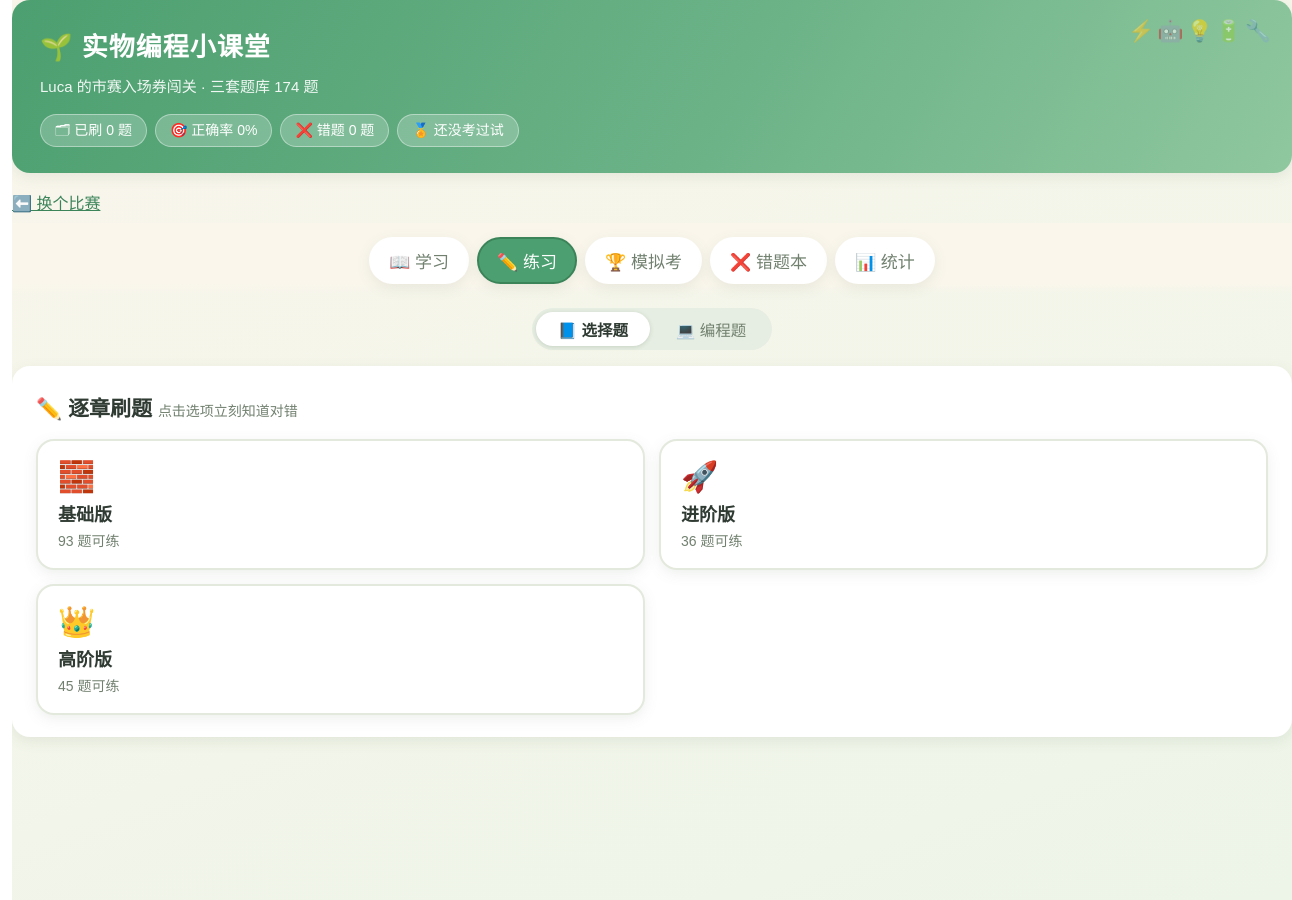
Test: AI 编程题子模块（挂在各 tab 下） › 练习页：10 分钟内完成不进错题本
The image size is (1292, 900).
Click the tab "💻 编程题" at (711, 329), box [654,312,768,346]
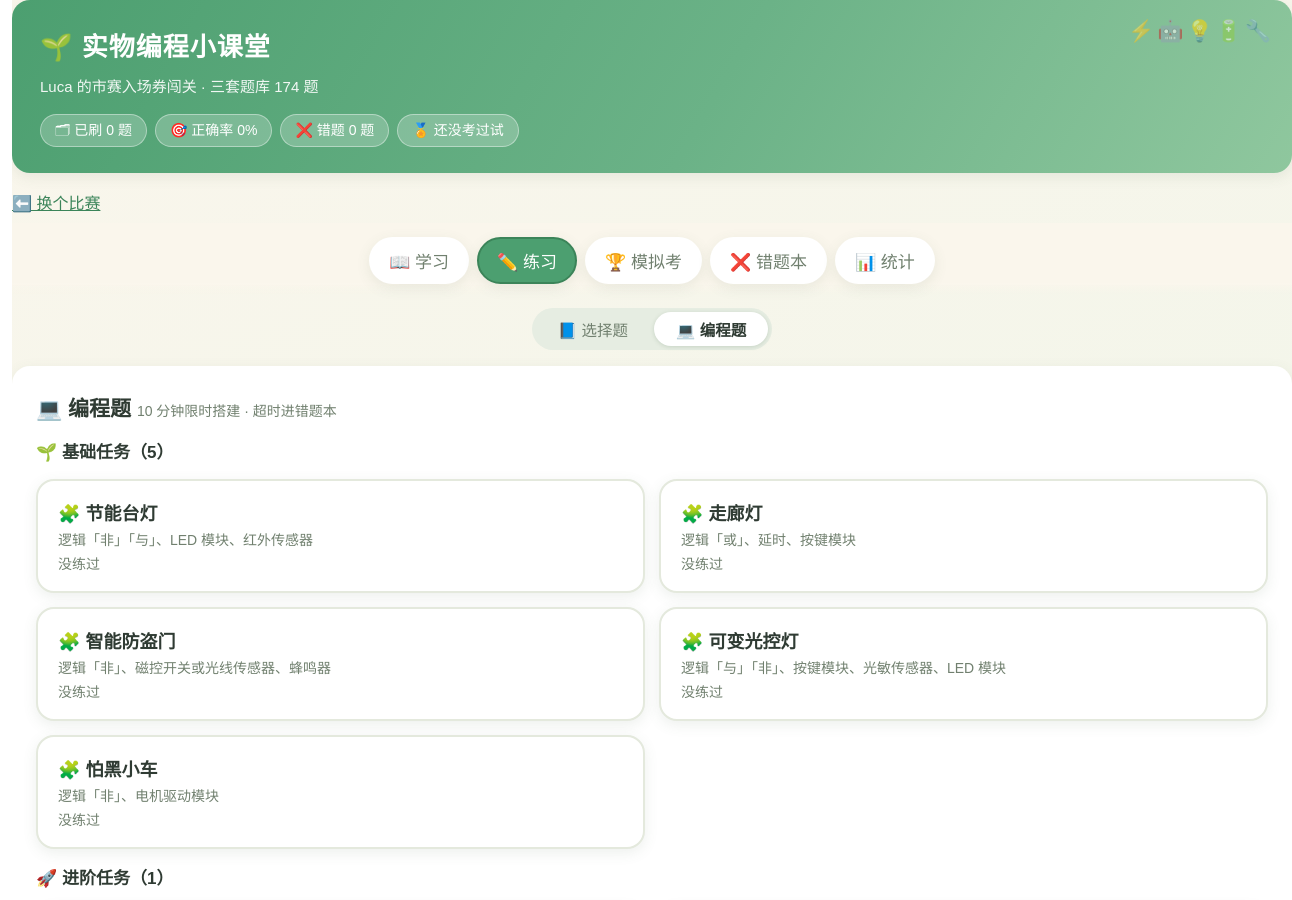
expect the tab "📘 选择题" is shown: met, box [536,312,650,346]
Click the button "🧩 走廊灯 逻辑「或」、延时、按键模块 没练过" at (735, 514), box [659,479,1268,593]
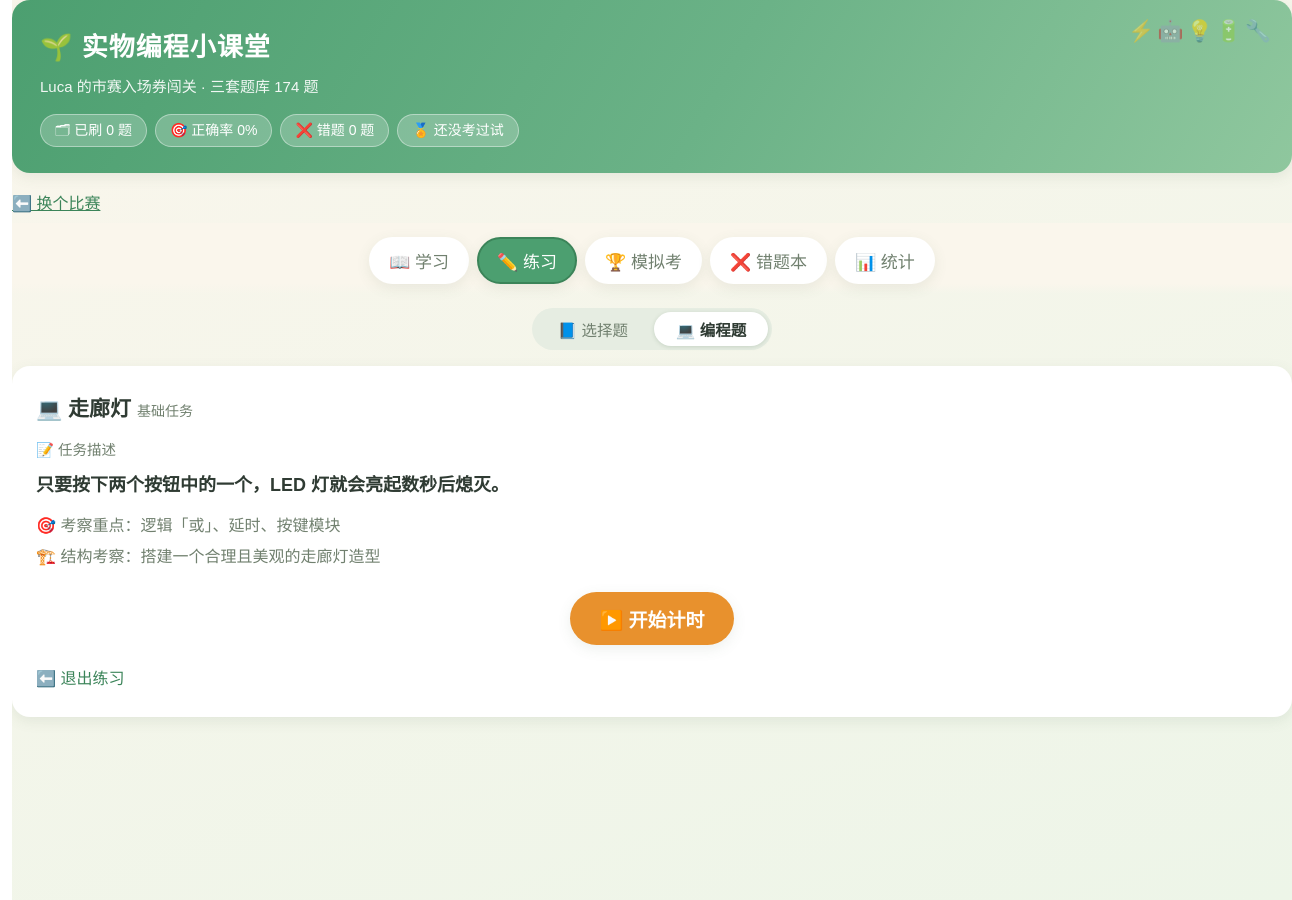
Click the button "▶️ 开始计时" at (652, 619), box [570,592,734,645]
Wait 480000 ms
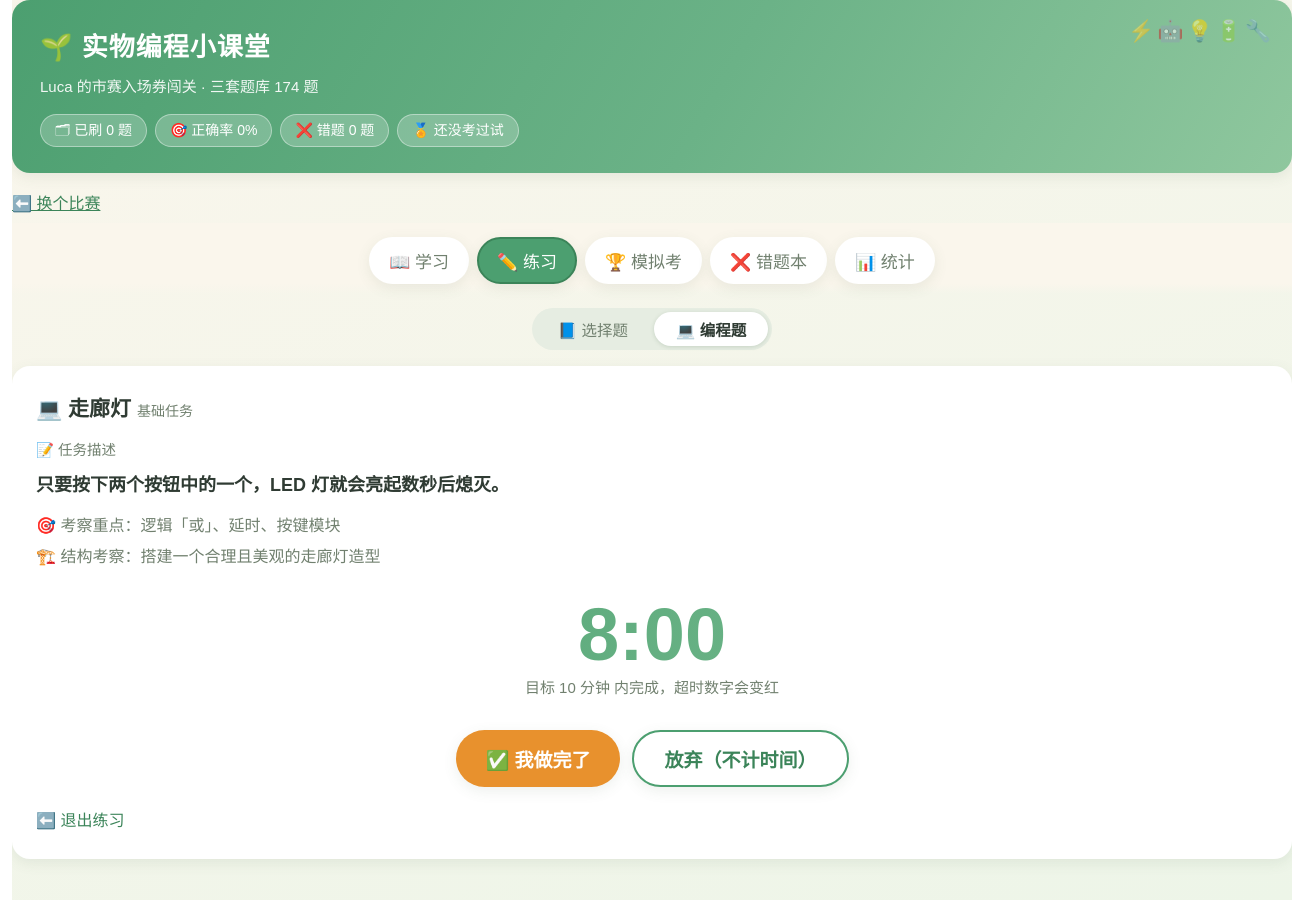
Click the button "✅ 我做完了" at (538, 759), box [456,730,620,787]
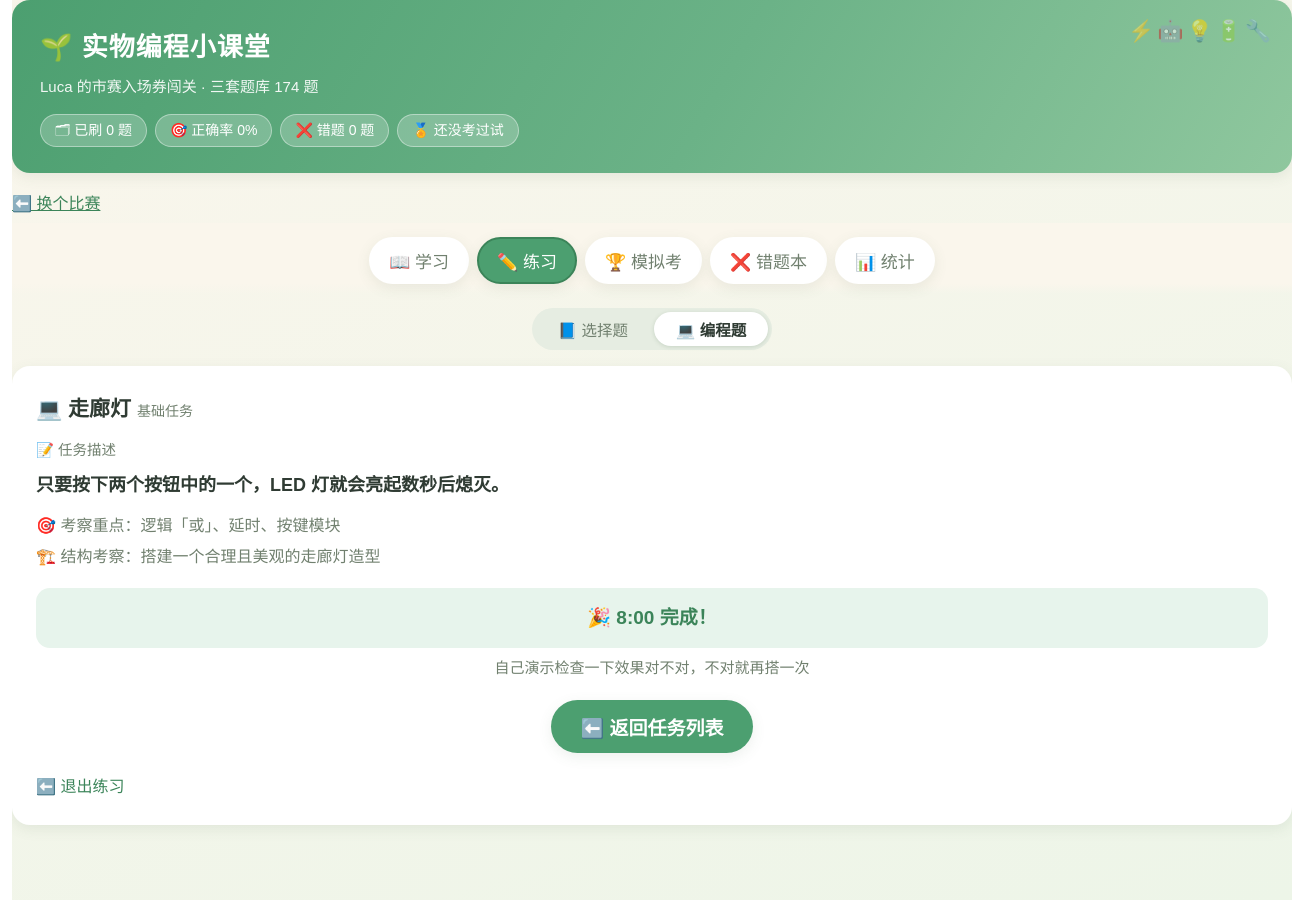
expect the text "🎉 8:00 完成！" is shown: met, box [36,588,1268,648]
